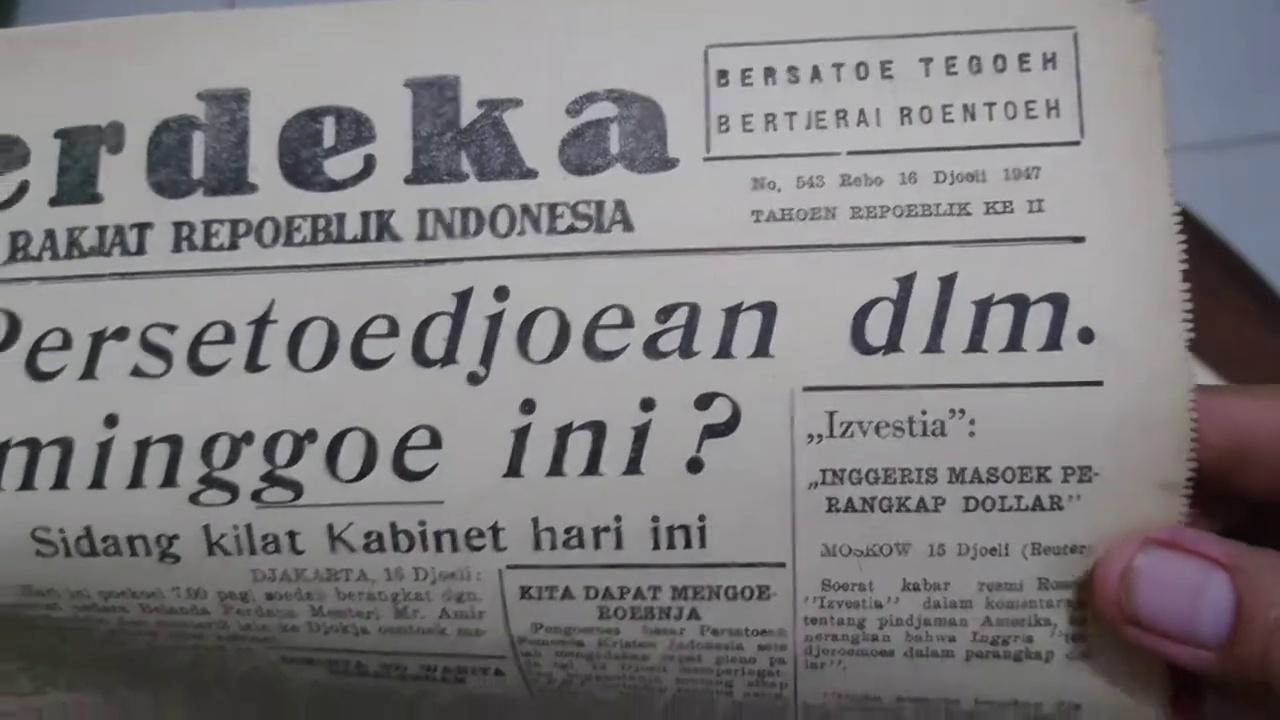Kertas: (0, 0, 1208, 719)
